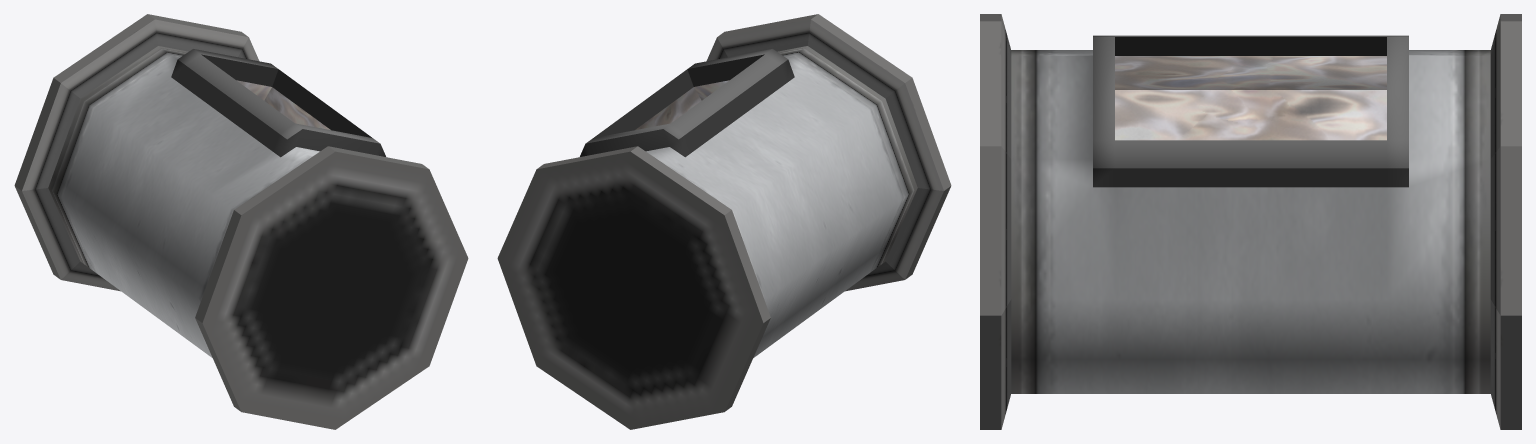
File: pipe_Io.glb
The picture shows the model from 3 angles, left to right: view 1: azimuth 30°, elevation 25°; view 2: azimuth 150°, elevation 25°; view 3: azimuth 270°, elevation 25°; orthographic projection. The views are drawn at different scales.
Parts seen in each view (by area): view 1: zhuti.II.016, zhuti.II.017; view 2: zhuti.II.016, zhuti.II.017; view 3: zhuti.II.016, zhuti.II.017.
Part boxes in pixels (box(x1,y1,x2,y2)): zhuti.II.016: box(14, 14, 468, 429); zhuti.II.017: box(236, 80, 330, 129); zhuti.II.016: box(497, 14, 951, 429); zhuti.II.017: box(635, 80, 729, 129); zhuti.II.016: box(980, 14, 1521, 429); zhuti.II.017: box(1115, 56, 1386, 140).
Size of the model in its own units: 8.17 by 8.17 by 10.
2 materials, 2 textured.
